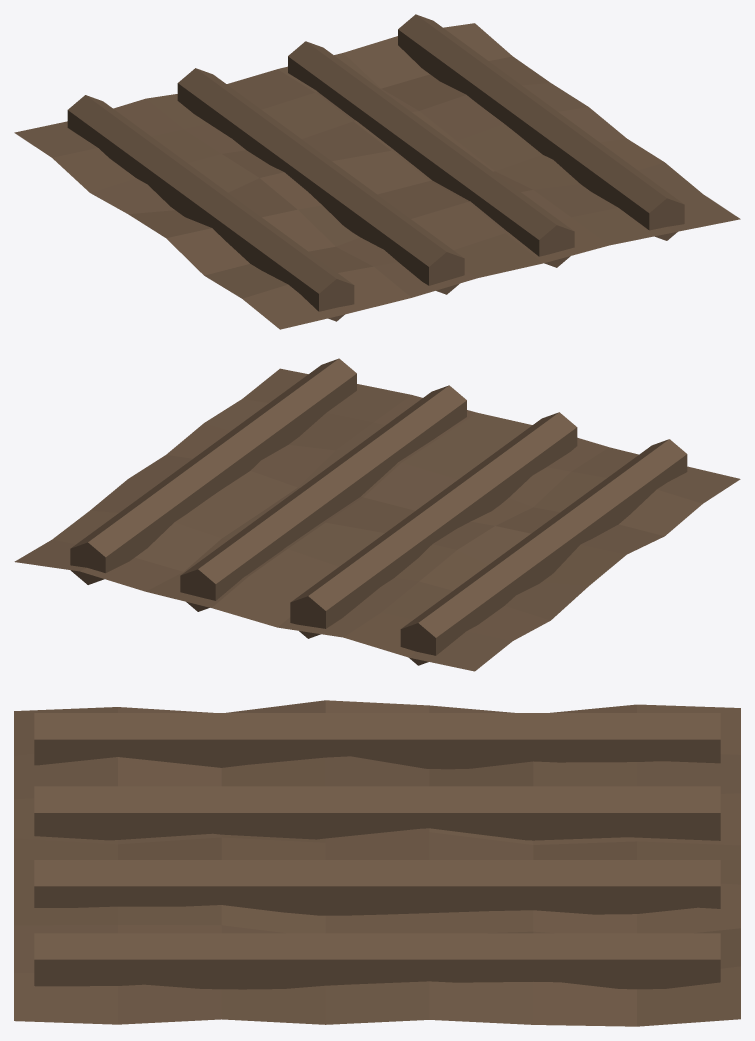
File: farm_plot.glb
3 renders of one model, top to bottom at view 1: azimuth 30°, elevation 25°; view 2: azimuth 150°, elevation 25°; view 3: azimuth 270°, elevation 25°, orthographic. The views are drawn at different scales.
Visible parts, largest first — view 1: FarmSoil, Cylinder.003, Cylinder, Cylinder.001, Cylinder.002; view 2: FarmSoil, Cylinder.003, Cylinder.001, Cylinder, Cylinder.002; view 3: FarmSoil, Cylinder.003, Cylinder.001, Cylinder.002, Cylinder.
Part boxes in pixels (left/top/right/bottom): FarmSoil: left=14, top=23, right=740, bottom=329; Cylinder.003: left=398, top=14, right=684, bottom=240; Cylinder: left=67, top=95, right=354, bottom=321; Cylinder.001: left=177, top=68, right=464, bottom=294; Cylinder.002: left=288, top=41, right=574, bottom=267; FarmSoil: left=14, top=368, right=740, bottom=671; Cylinder.003: left=70, top=358, right=356, bottom=584; Cylinder.001: left=290, top=412, right=577, bottom=638; Cylinder: left=400, top=439, right=687, bottom=665; Cylinder.002: left=180, top=385, right=466, bottom=611; FarmSoil: left=14, top=700, right=740, bottom=1026; Cylinder.003: left=34, top=933, right=720, bottom=989; Cylinder.001: left=34, top=786, right=720, bottom=840; Cylinder.002: left=34, top=860, right=720, bottom=915; Cylinder: left=34, top=713, right=720, bottom=769.
Bounding box in the file's own units: 1.8 × 0.16 × 1.8.
